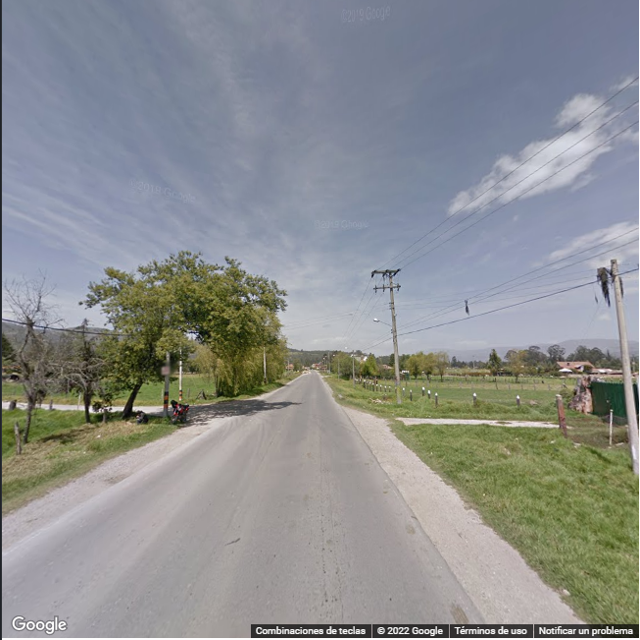D00: (326, 474, 348, 627)
